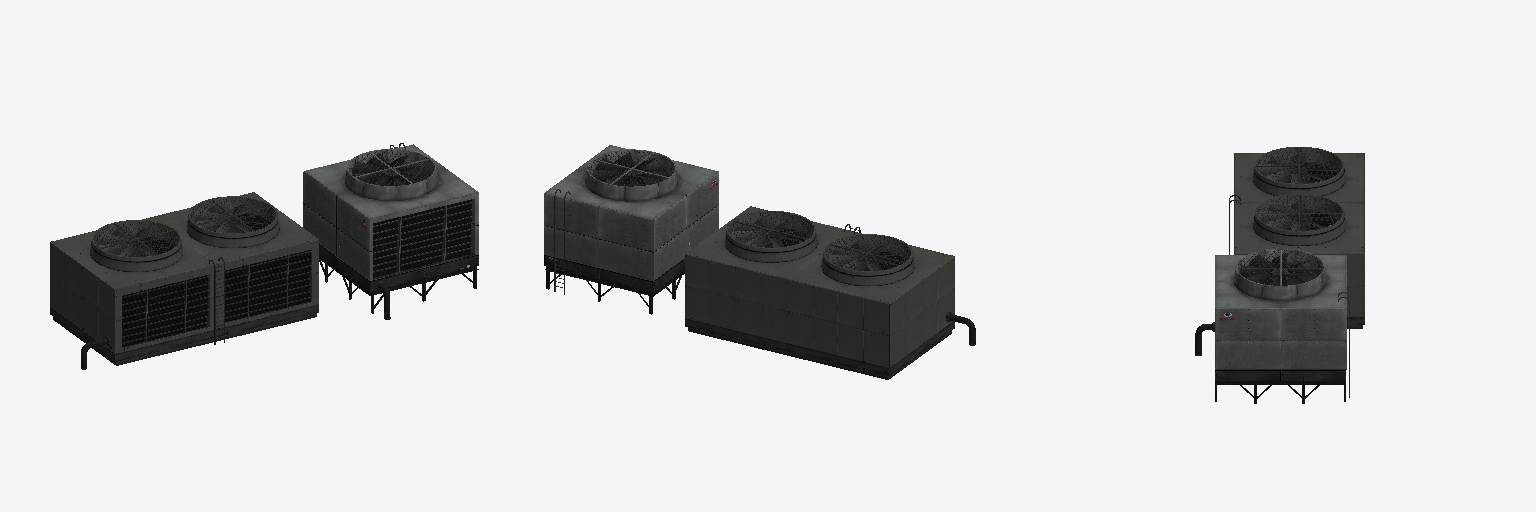
3 renders of one model, left to right at view 1: azimuth 30°, elevation 25°; view 2: azimuth 150°, elevation 25°; view 3: azimuth 270°, elevation 25°, orthographic.
Visible parts, largest first — view 1: prop_aircon_l_02_Mesh; view 2: prop_aircon_l_02_Mesh; view 3: prop_aircon_l_02_Mesh.
Part boxes in pixels (left/top/right/bottom): prop_aircon_l_02_Mesh: left=50, top=143, right=478, bottom=369; prop_aircon_l_02_Mesh: left=544, top=145, right=975, bottom=379; prop_aircon_l_02_Mesh: left=1195, top=147, right=1364, bottom=403.
Bounding box in the file's own units: 37.66 × 10.31 × 14.52.
Materials: 6 (5 with a texture image).